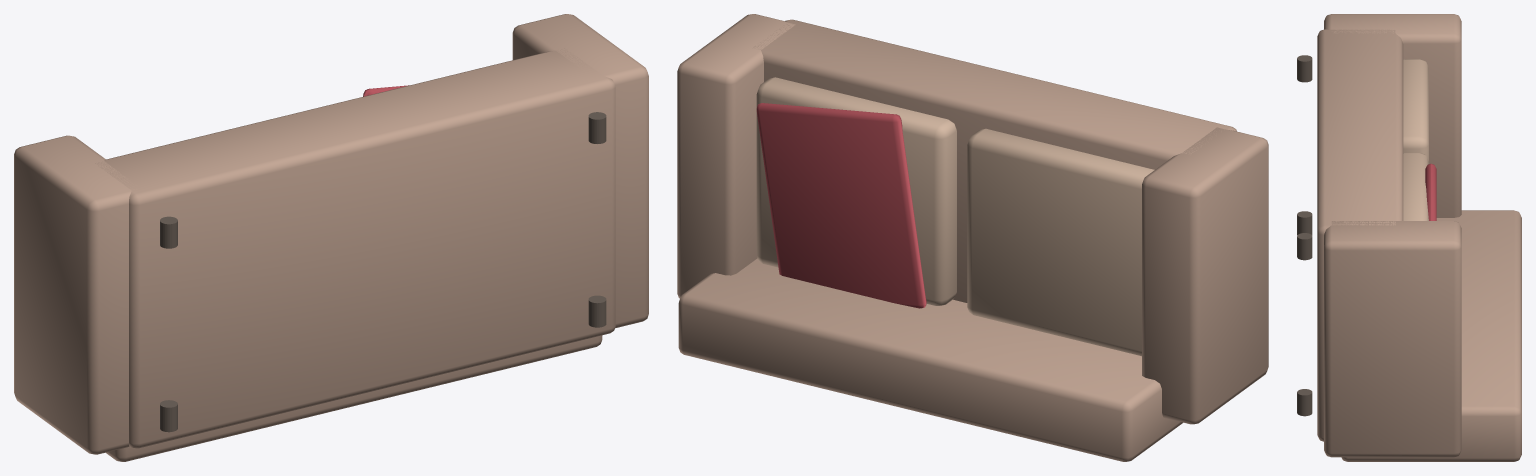
The model's file is couch.glb.
3 views of the same model, side by side, from view 1: azimuth 30°, elevation 25°; view 2: azimuth 150°, elevation 25°; view 3: azimuth 270°, elevation 25° (orthographic). The views are drawn at different scales.
Visible parts, largest first — view 1: CouchSeat, CouchArmL, CouchArmR, CouchBack; view 2: CouchBack, CushionL, CouchArmL, CouchSeat, Throw, CouchArmR, CushionR; view 3: CouchArmR, CouchSeat, CouchBack, CouchArmL, CushionL, CushionR, Throw, CouchLeg, CouchLeg.001, CouchLeg.003, CouchLeg.002.
Boxes of the visible parts, x1=… form: CouchSeat: x1=95, y1=48, x2=615, y2=448; CouchArmL: x1=14, y1=135, x2=136, y2=454; CouchArmR: x1=512, y1=14, x2=648, y2=328; CouchBack: x1=106, y1=335, x2=602, y2=461; CouchBack: x1=678, y1=258, x2=1182, y2=461; CushionL: x1=967, y1=128, x2=1154, y2=356; CouchArmL: x1=1142, y1=127, x2=1268, y2=424; CouchSeat: x1=752, y1=19, x2=1236, y2=302; Throw: x1=756, y1=103, x2=926, y2=308; CouchArmR: x1=677, y1=14, x2=795, y2=298; CushionR: x1=756, y1=77, x2=956, y2=305; CouchArmR: x1=1324, y1=221, x2=1461, y2=457; CouchSeat: x1=1317, y1=29, x2=1403, y2=441; CouchBack: x1=1341, y1=210, x2=1521, y2=461; CouchArmL: x1=1324, y1=14, x2=1461, y2=217; CushionL: x1=1403, y1=59, x2=1428, y2=160; CushionR: x1=1403, y1=153, x2=1428, y2=220; Throw: x1=1425, y1=163, x2=1436, y2=220; CouchLeg: x1=1297, y1=55, x2=1312, y2=82; CouchLeg.001: x1=1297, y1=233, x2=1312, y2=260; CouchLeg.003: x1=1297, y1=389, x2=1312, y2=416; CouchLeg.002: x1=1297, y1=211, x2=1312, y2=235.
Size of the model in its own units: 2.88 by 1.37 by 1.18.
